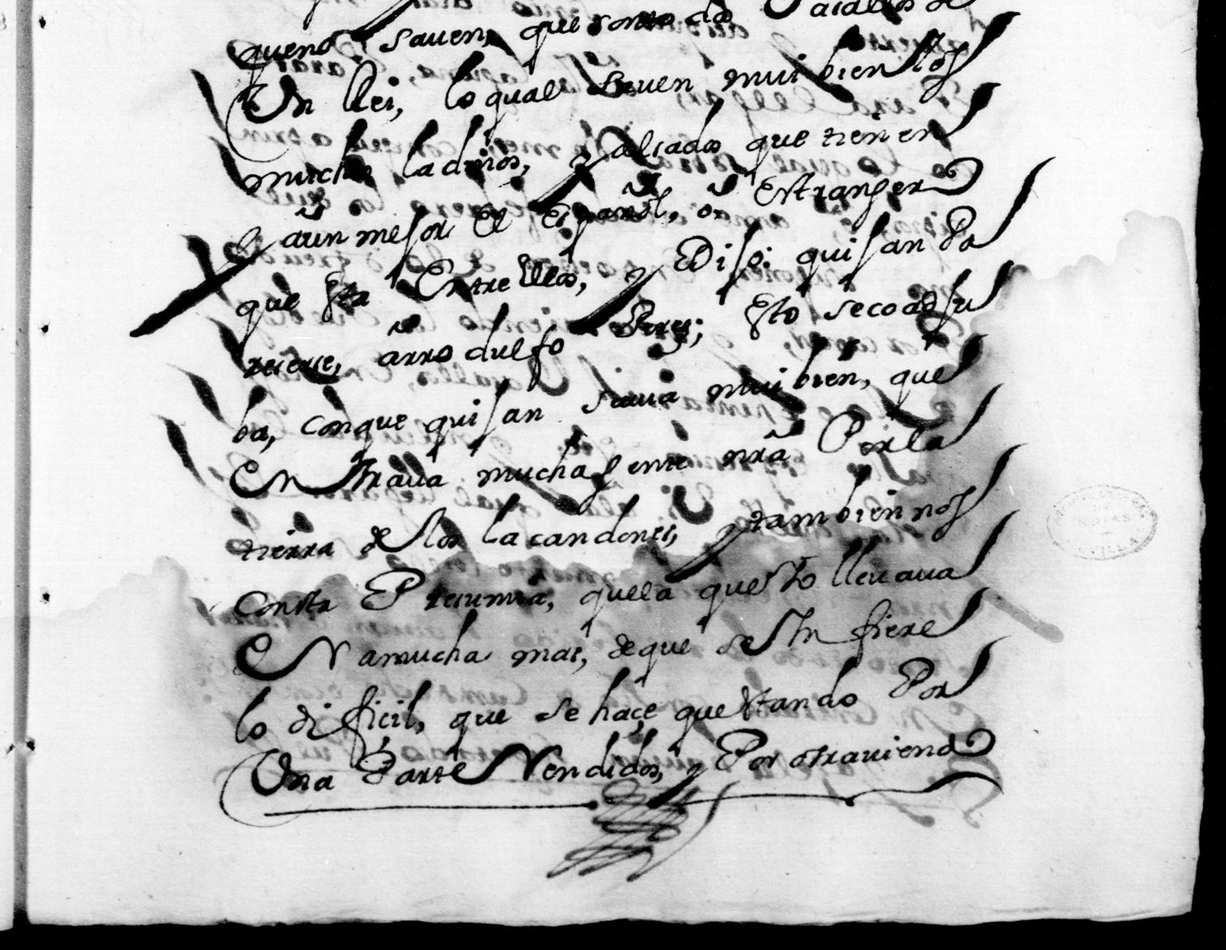lacandon: (482, 493, 676, 547)
